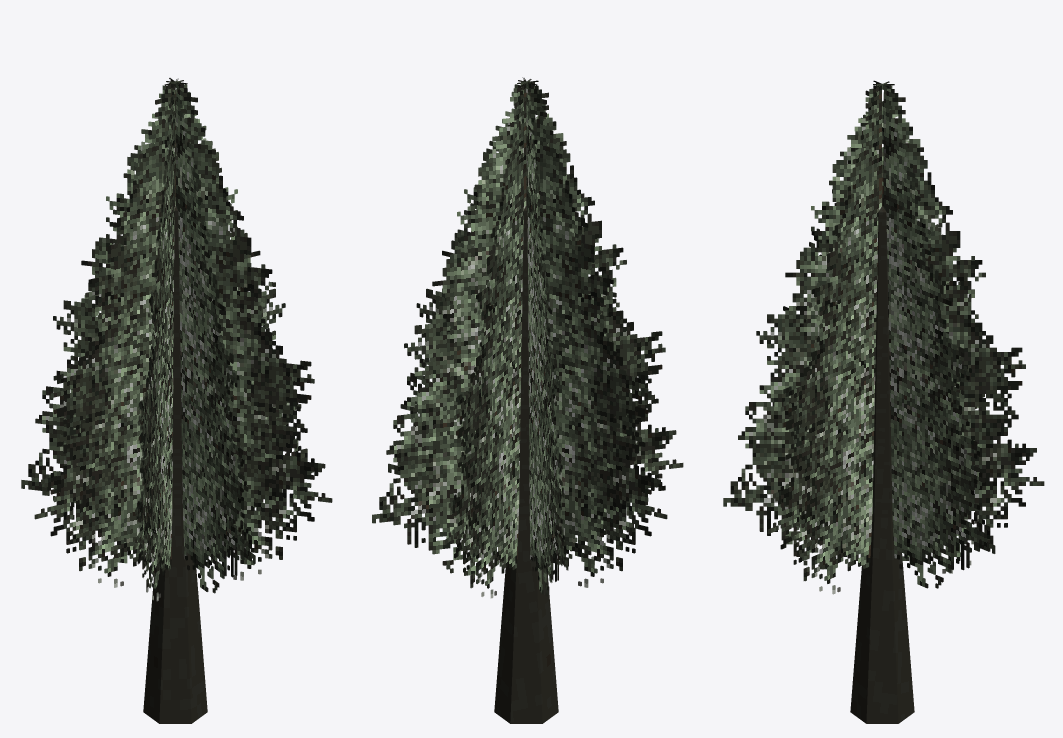
Rendered from tree06.glb.
3 views of the same model, side by side, from view 1: azimuth 30°, elevation 25°; view 2: azimuth 150°, elevation 25°; view 3: azimuth 270°, elevation 25° (orthographic).
Visible parts, largest first — view 1: tree06; view 2: tree06; view 3: tree06.
Part boxes in pixels (x1,y1,x2,y2): tree06: (21,78,332,723); tree06: (372,77,683,723); tree06: (723,80,1044,723).
Bounding box in the file's own units: 3.84 × 8 × 3.84.
Materials: 1 (1 with a texture image).
